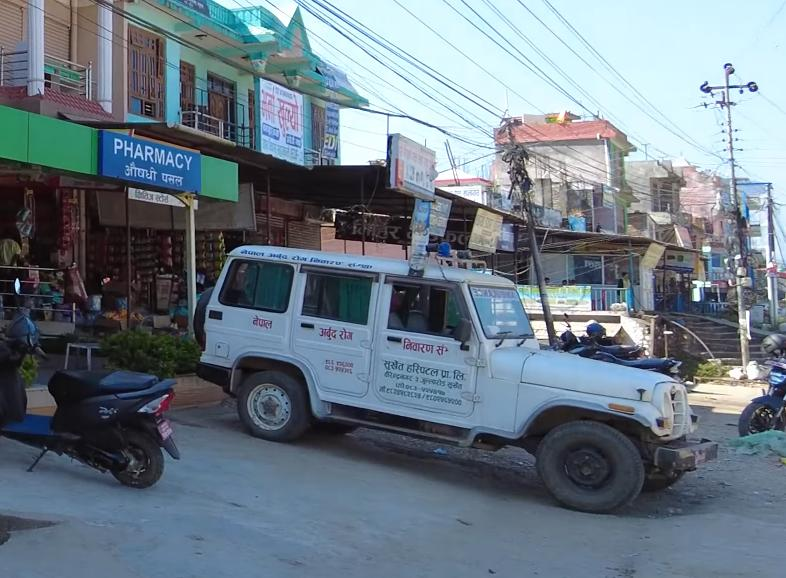ambulance: (186, 234, 728, 525)
bike: (736, 337, 786, 438)
scooter: (0, 303, 180, 496)
